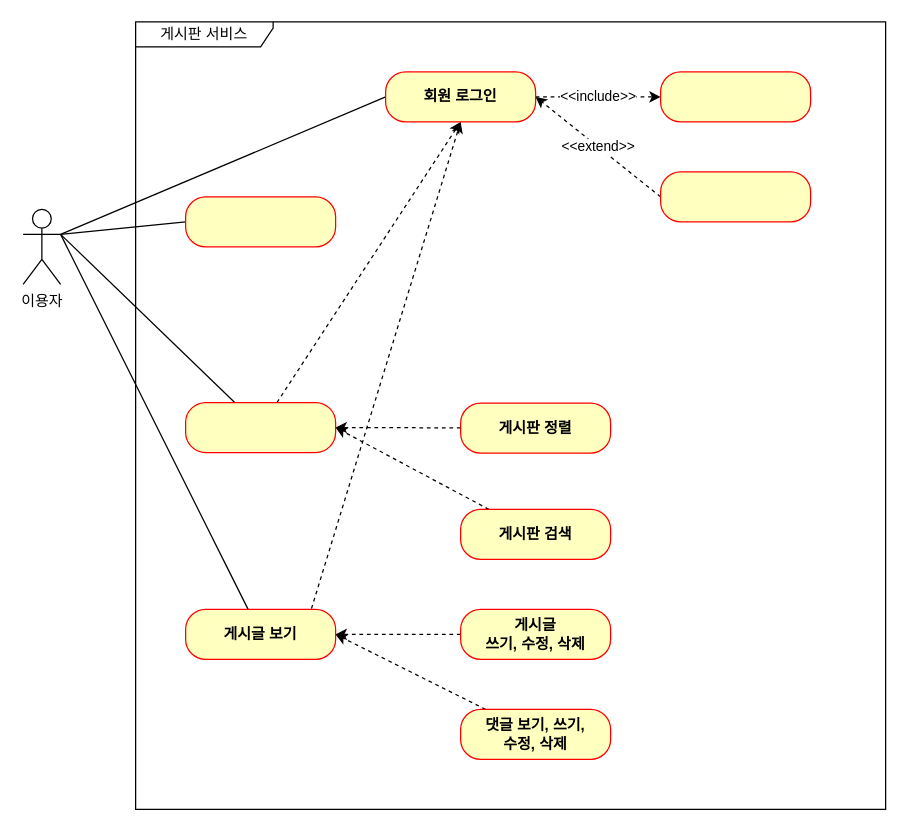
The diagram is 908 pixels wide and 831 high, and some of its shapes have lost their labels. The shapes that lost their labels are listed below. From the top down, each one's box as (x1, y1, x2, y2) in pixels, then its label:
(659, 71, 811, 122): 인증(SNS 등)
(659, 171, 811, 222): 로그인 실패
(184, 196, 336, 247): 회원 가입
(184, 401, 336, 452): 게시판 보기
